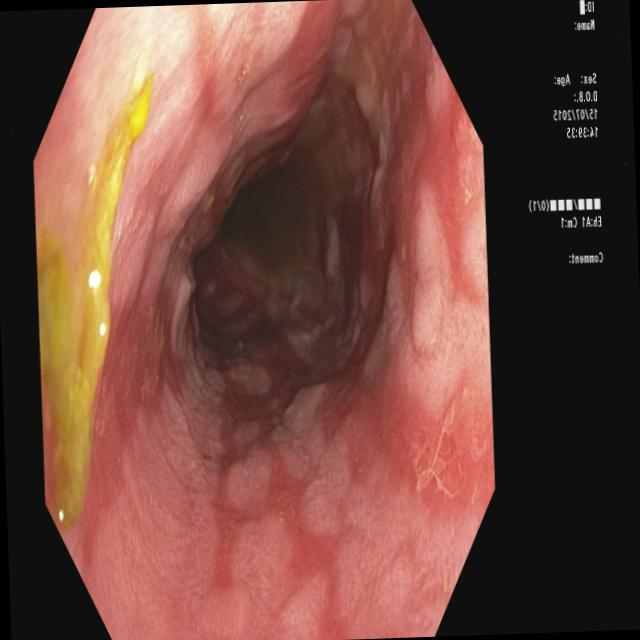esophagitis: (33, 0, 496, 640)
